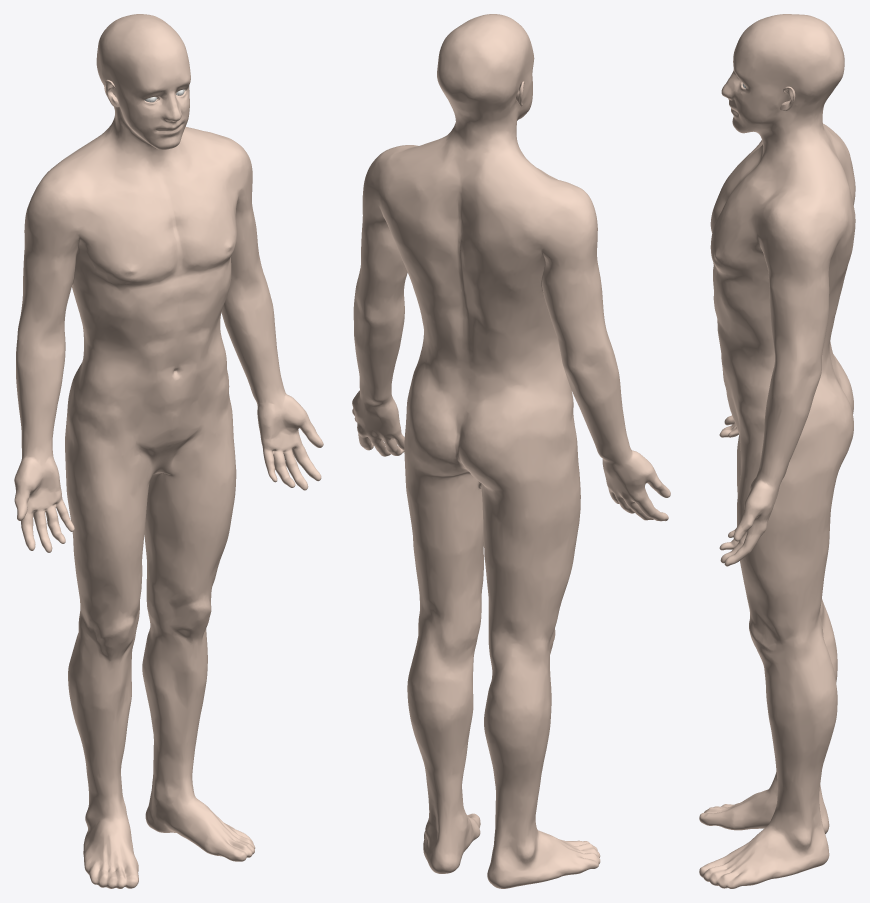
File: body.glb
3 renders of one model, left to right at view 1: azimuth 30°, elevation 25°; view 2: azimuth 150°, elevation 25°; view 3: azimuth 270°, elevation 25°, orthographic. The views are drawn at different scales.
Parts seen in each view (by area): view 1: skin; view 2: skin; view 3: skin.
Boxes of the visible parts, bbox=[...] form: skin: bbox=[14, 14, 323, 888]; skin: bbox=[352, 14, 670, 888]; skin: bbox=[699, 14, 855, 888].
Bounding box in the file's own units: 0.6669 × 1.72 × 0.292.
